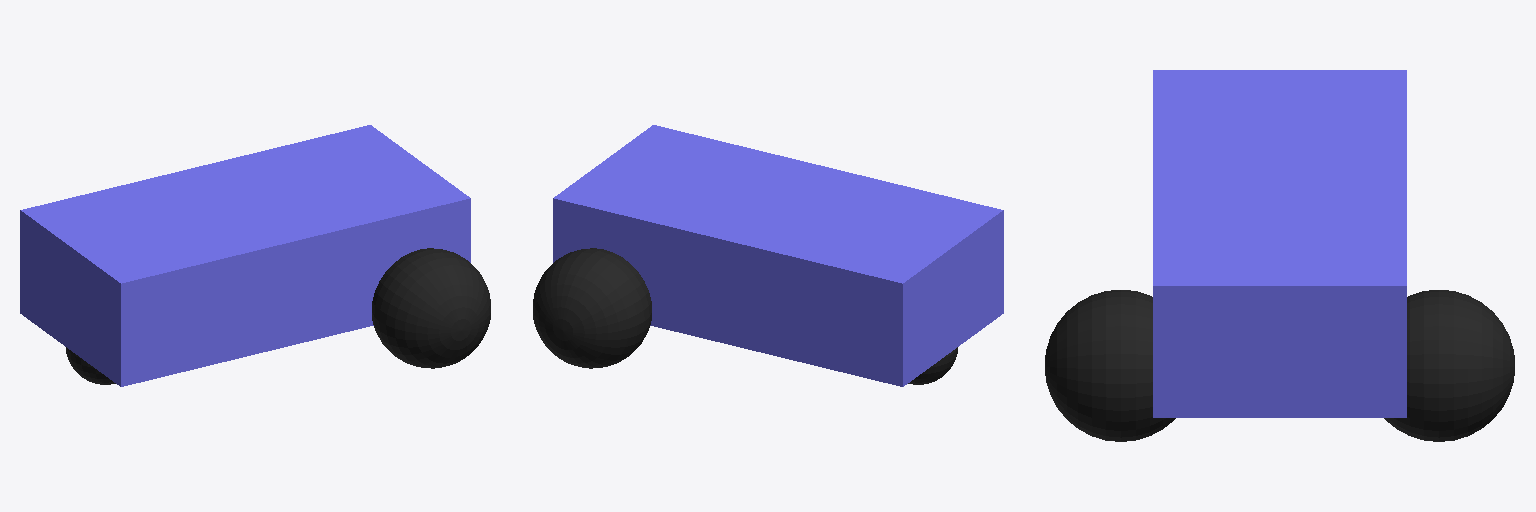
The robot description file, URDF, robot "vehicle_1":
<?xml version="1.0"?>
<robot name="vehicle_1">

  <link name="chassis">
    <visual>
      <origin xyz="-0.151427 0 0.175"/>
      <geometry>
        <box size="2.01142 1.0 0.568726"/>
      </geometry>
      <material name="chassis_blue">
        <color rgba="0.5 0.5 1.0 1.0"/>
      </material>
    </visual>
  </link>

  <link name="left_wheel">
    <visual>
      <geometry>
        <sphere radius="0.3"/>
      </geometry>
      <material name="wheel_black">
        <color rgba="0.2 0.2 0.2 1.0"/>
      </material>
    </visual>
  </link>

  <joint name="left_wheel_joint" type="continuous">
    <parent link="chassis"/>
    <child link="left_wheel"/>
    <origin xyz="0.554283 0.625029 -0.025"
            rpy="-1.5707 0 0"/>
    <axis xyz="0 0 1"/>
  </joint>

  <link name="right_wheel">
    <visual>
      <geometry>
        <sphere radius="0.3"/>
      </geometry>
      <material name="wheel_black"/>
    </visual>
  </link>

  <joint name="right_wheel_joint" type="continuous">
    <parent link="chassis"/>
    <child link="right_wheel"/>
    <origin xyz="0.554282 -0.625029 -0.025"
            rpy="-1.5707 0 0"/>
    <axis xyz="0 0 1"/>
  </joint>

  <link name="caster">
    <visual>
      <geometry>
        <sphere radius="0.2"/>
      </geometry>
      <material name="wheel_black"/>
    </visual>
  </link>

  <!-- URDF에는 ball joint가 없으므로 RViz용으로 fixed 처리 -->
  <joint name="caster_wheel" type="fixed">
    <parent link="chassis"/>
    <child link="caster"/>
    <origin xyz="-0.957138 0 -0.125"/>
  </joint>

</robot>

--- What the picture shows (computed from the rendered views, not written in the file) ---
The picture shows the robot from 3 angles, left to right: view 1: azimuth 30°, elevation 25°; view 2: azimuth 150°, elevation 25°; view 3: azimuth 270°, elevation 25°; orthographic projection.
Model vehicle_1 with 4 links and 3 joints (2 continuous, 1 fixed), rooted at chassis, posed every joint at zero.
Visible links, largest first — view 1: chassis, right_wheel, caster; view 2: chassis, left_wheel, caster; view 3: chassis, left_wheel, right_wheel.
Link boxes in pixels (x1,y1,x2,y2): chassis: [20, 125, 470, 386]; right_wheel: [372, 248, 490, 368]; caster: [66, 347, 115, 384]; chassis: [553, 125, 1003, 386]; left_wheel: [533, 248, 651, 368]; caster: [908, 347, 957, 384]; chassis: [1153, 70, 1406, 417]; left_wheel: [1384, 290, 1514, 441]; right_wheel: [1045, 290, 1175, 441].
Size in the robot's own frame: 2.01 by 1.85 by 0.7844 metres.
Geometry: primitives only (box / cylinder / sphere), no mesh files.
